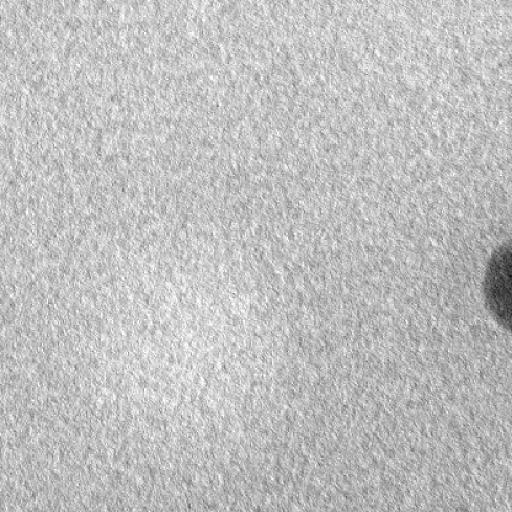Nanoparticles: (478, 235, 512, 330)
